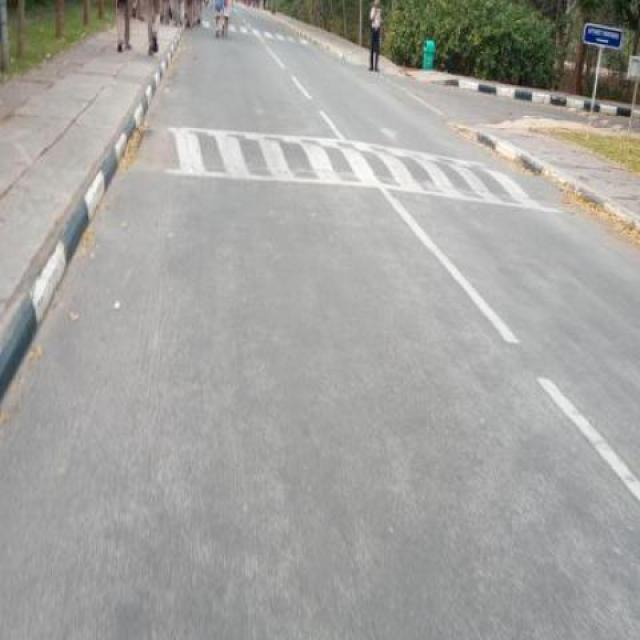Speed Bump: (140, 120, 552, 212), (199, 23, 314, 40)
